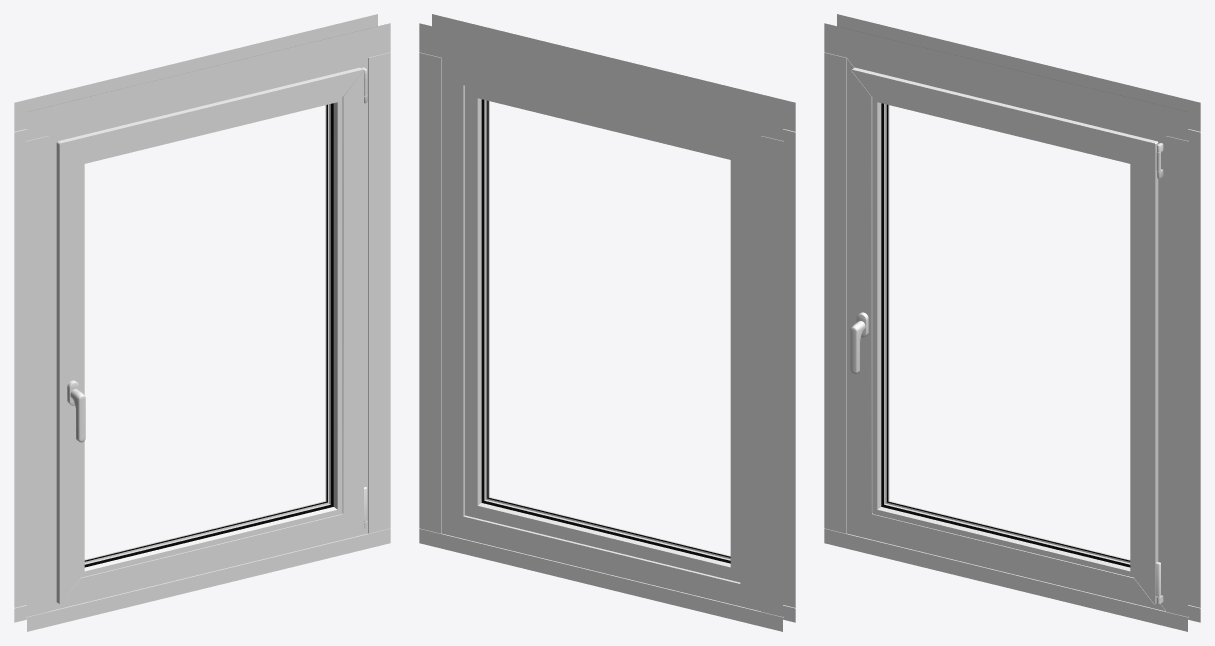
File: Window...Door.fbx
3 renders of one model, left to right at view 1: azimuth 30°, elevation 25°; view 2: azimuth 150°, elevation 25°; view 3: azimuth 330°, elevation 25°, orthographic.
Visible parts, largest first — view 1: #WIN0003_Frame, #WIN0003_Window, #WIN0003_Handle; view 2: #WIN0003_Frame, #WIN0003_Window; view 3: #WIN0003_Frame, #WIN0003_Window, #WIN0003_Handle.
Boxes of the visible parts, bbox=[...] form: #WIN0003_Frame: bbox=[14, 14, 390, 631]; #WIN0003_Window: bbox=[56, 67, 367, 604]; #WIN0003_Handle: bbox=[70, 389, 85, 442]; #WIN0003_Frame: bbox=[419, 14, 795, 631]; #WIN0003_Window: bbox=[465, 85, 740, 582]; #WIN0003_Frame: bbox=[824, 14, 1200, 631]; #WIN0003_Window: bbox=[851, 67, 1160, 604]; #WIN0003_Handle: bbox=[850, 321, 865, 374].
Bounding box in the file's own units: 104 × 142 × 12.8.
Materials: 1 (1 with a texture image).
